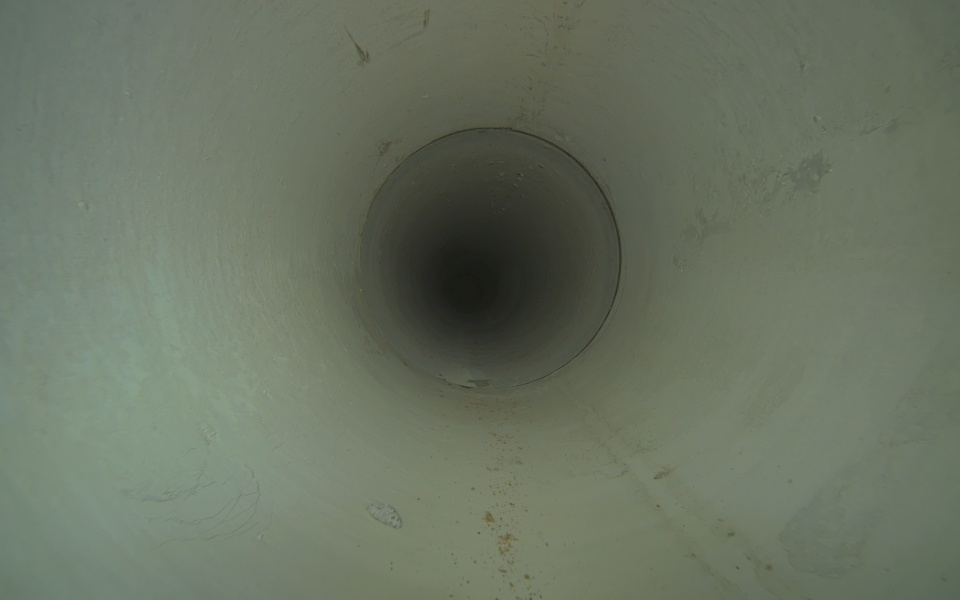circle1: (351, 127, 622, 391)
circle2: (445, 257, 501, 314)
